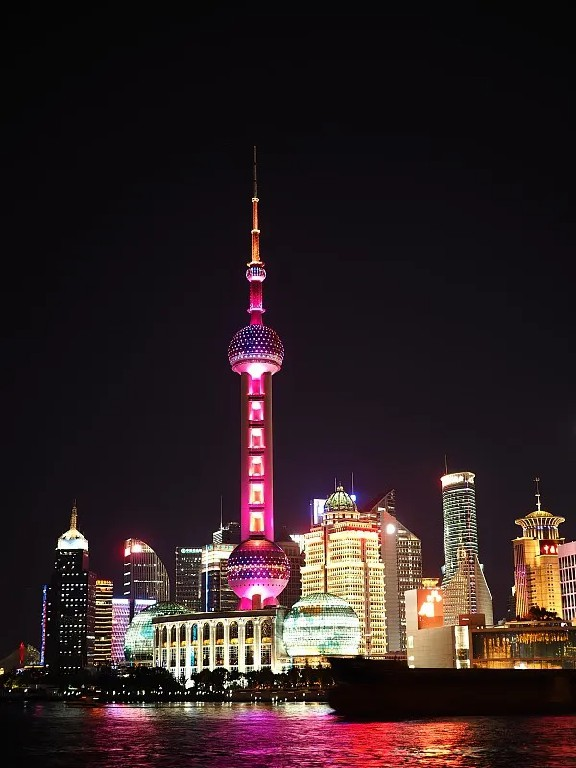Oriental: (226, 144, 291, 609)
